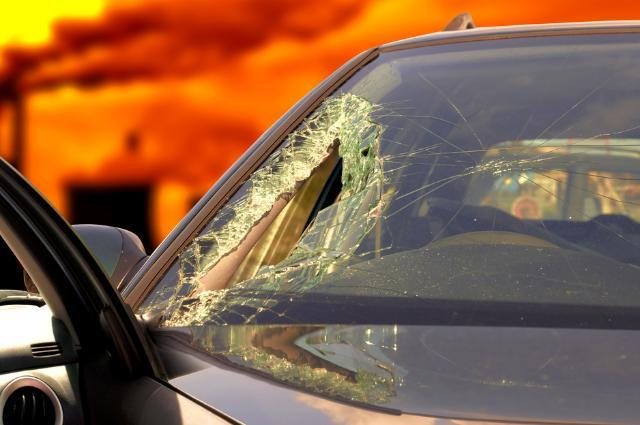Windshield: (113, 25, 640, 397)
